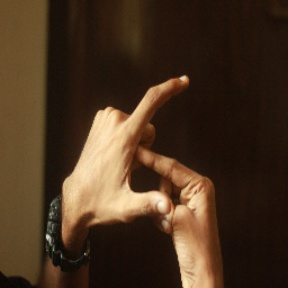E: (118, 64, 207, 223)
